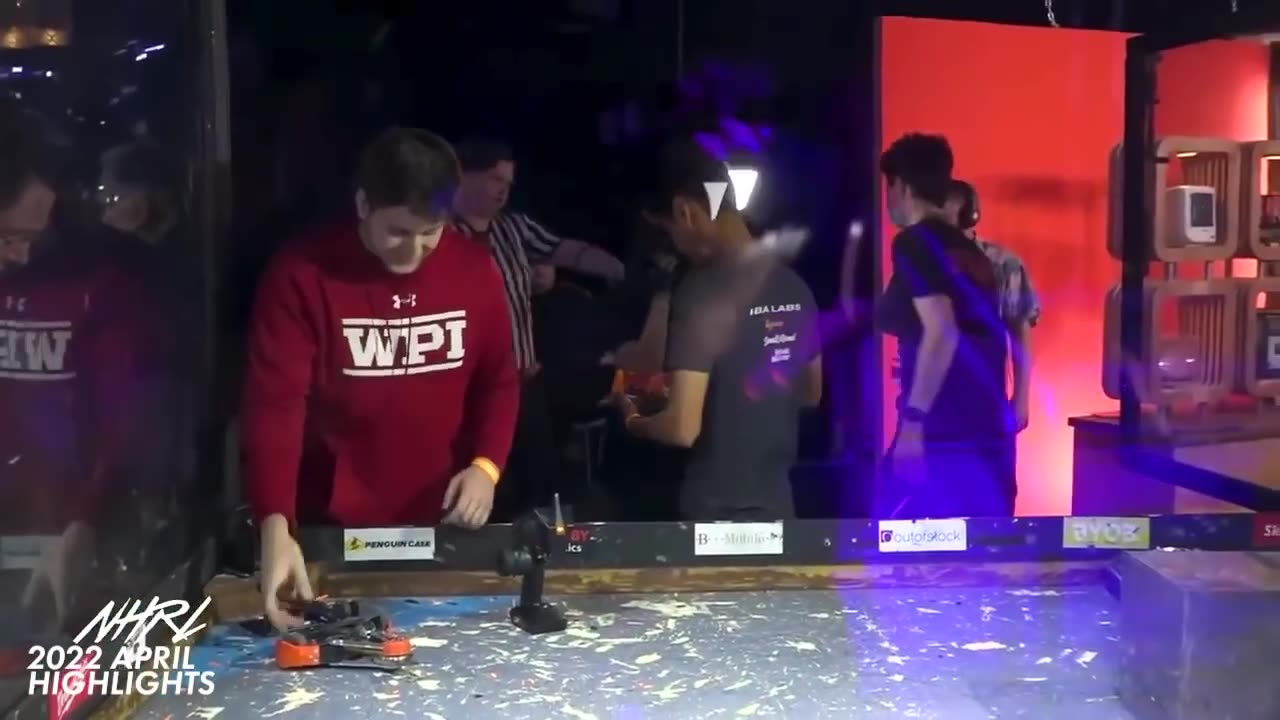combatbot: (272, 593, 415, 671)
housebot: (1113, 536, 1280, 720)
